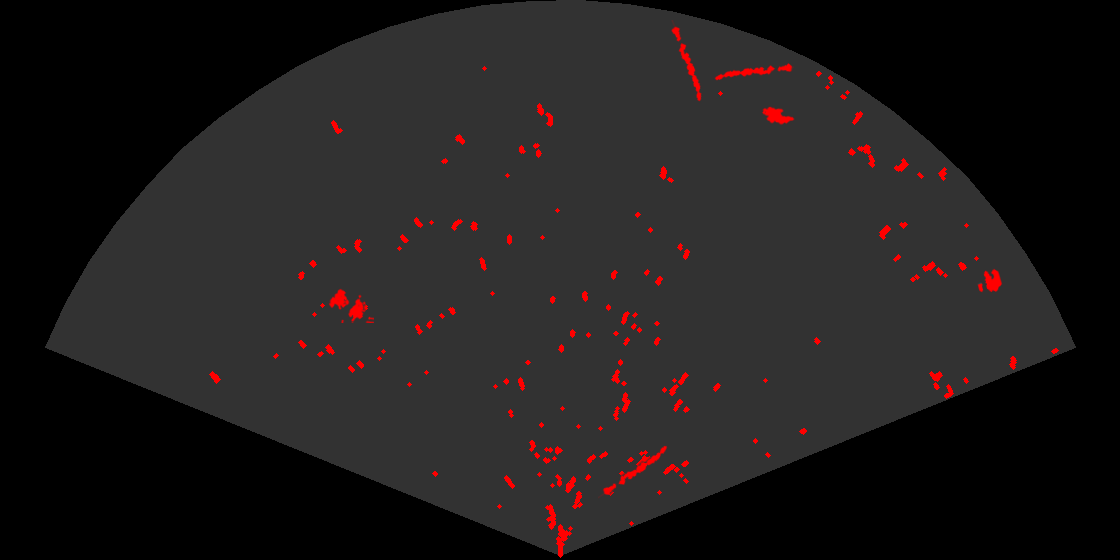AUV: (761, 105, 796, 126)
ball: (976, 267, 1004, 294)
cage: (327, 287, 374, 323)
chain: (598, 444, 669, 500), (670, 20, 703, 103), (713, 62, 794, 82)
